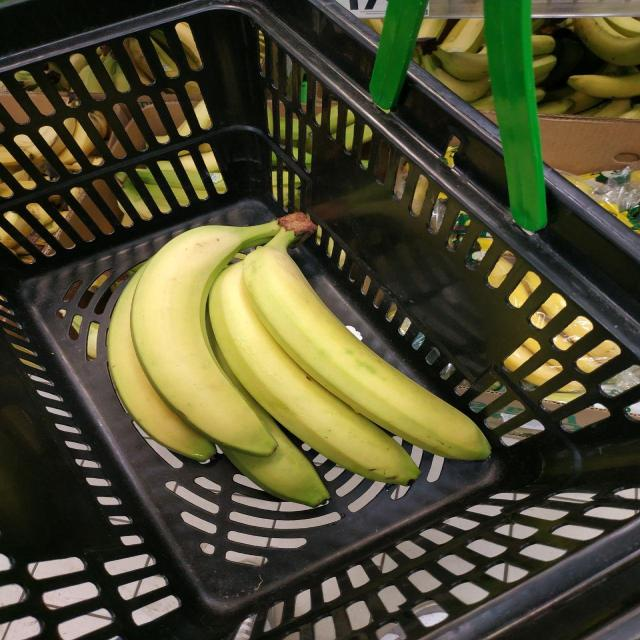banana: (130, 244, 409, 640), (95, 216, 277, 636), (102, 151, 320, 490), (125, 122, 369, 389), (156, 105, 448, 321)
